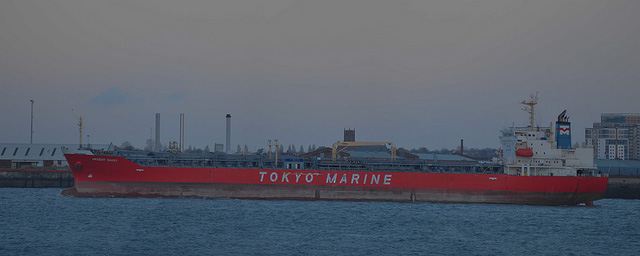tanker: (58, 92, 615, 210)
